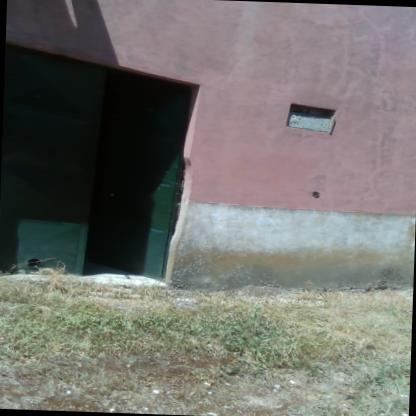semi: (0, 44, 204, 285)
